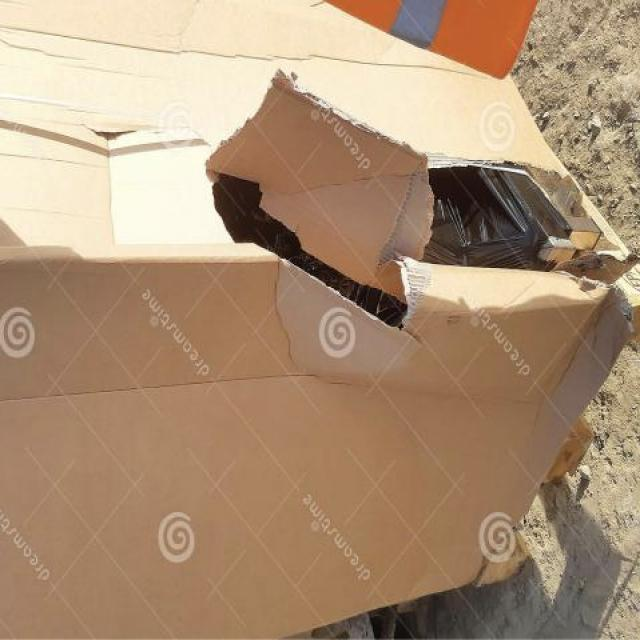hole: (185, 120, 605, 349)
